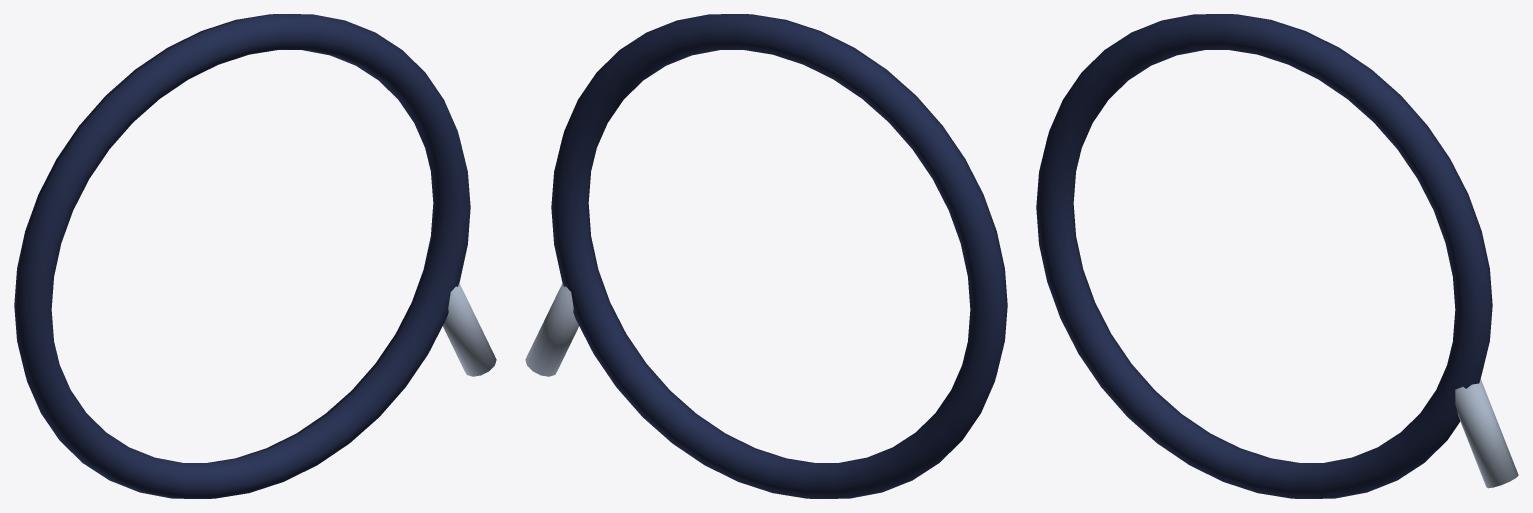
File: monocle.glb
3 views of the same model, side by side, from view 1: azimuth 30°, elevation 25°; view 2: azimuth 150°, elevation 25°; view 3: azimuth 330°, elevation 25° (orthographic).
Parts seen in each view (by area): view 1: monocle; view 2: monocle; view 3: monocle.
Part boxes in pixels (x1=…): monocle: x1=14, y1=14, x2=496, y2=498; monocle: x1=525, y1=14, x2=1007, y2=498; monocle: x1=1036, y1=14, x2=1518, y2=498.
Size of the model in its own units: 0.2852 by 0.27 by 0.02.
